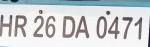0: (94, 14, 107, 39)
1: (133, 15, 144, 39)
2: (32, 14, 44, 37)
4: (107, 15, 119, 39)
6: (44, 14, 56, 37)
7: (120, 15, 132, 39)
A: (74, 13, 90, 38)
D: (60, 14, 75, 37)
H: (0, 13, 12, 38)
R: (13, 13, 27, 37)
